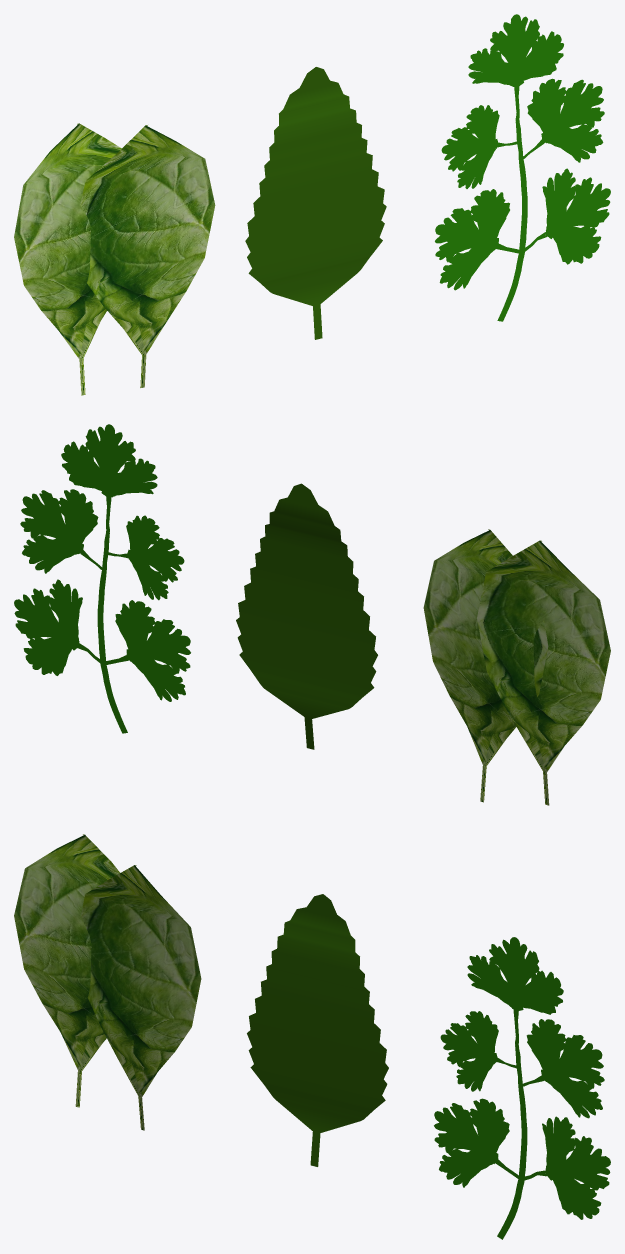
File: trio.gltf
The picture shows the model from 3 angles, top to bottom: view 1: azimuth 30°, elevation 25°; view 2: azimuth 150°, elevation 25°; view 3: azimuth 330°, elevation 25°; orthographic projection.
Parts seen in each view (by area): view 1: Plane.001; view 2: Plane.001; view 3: Plane.001.
Part boxes in pixels (<box>): Plane.001: <box>14,14,610,395</box>; Plane.001: <box>14,424,610,805</box>; Plane.001: <box>14,834,610,1239</box>.
Size of the model in its own units: 2.58 by 1.26 by 0.0848.
3 materials, 1 textured.
